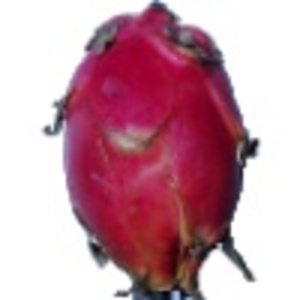pitaia: (43, 1, 261, 300)
